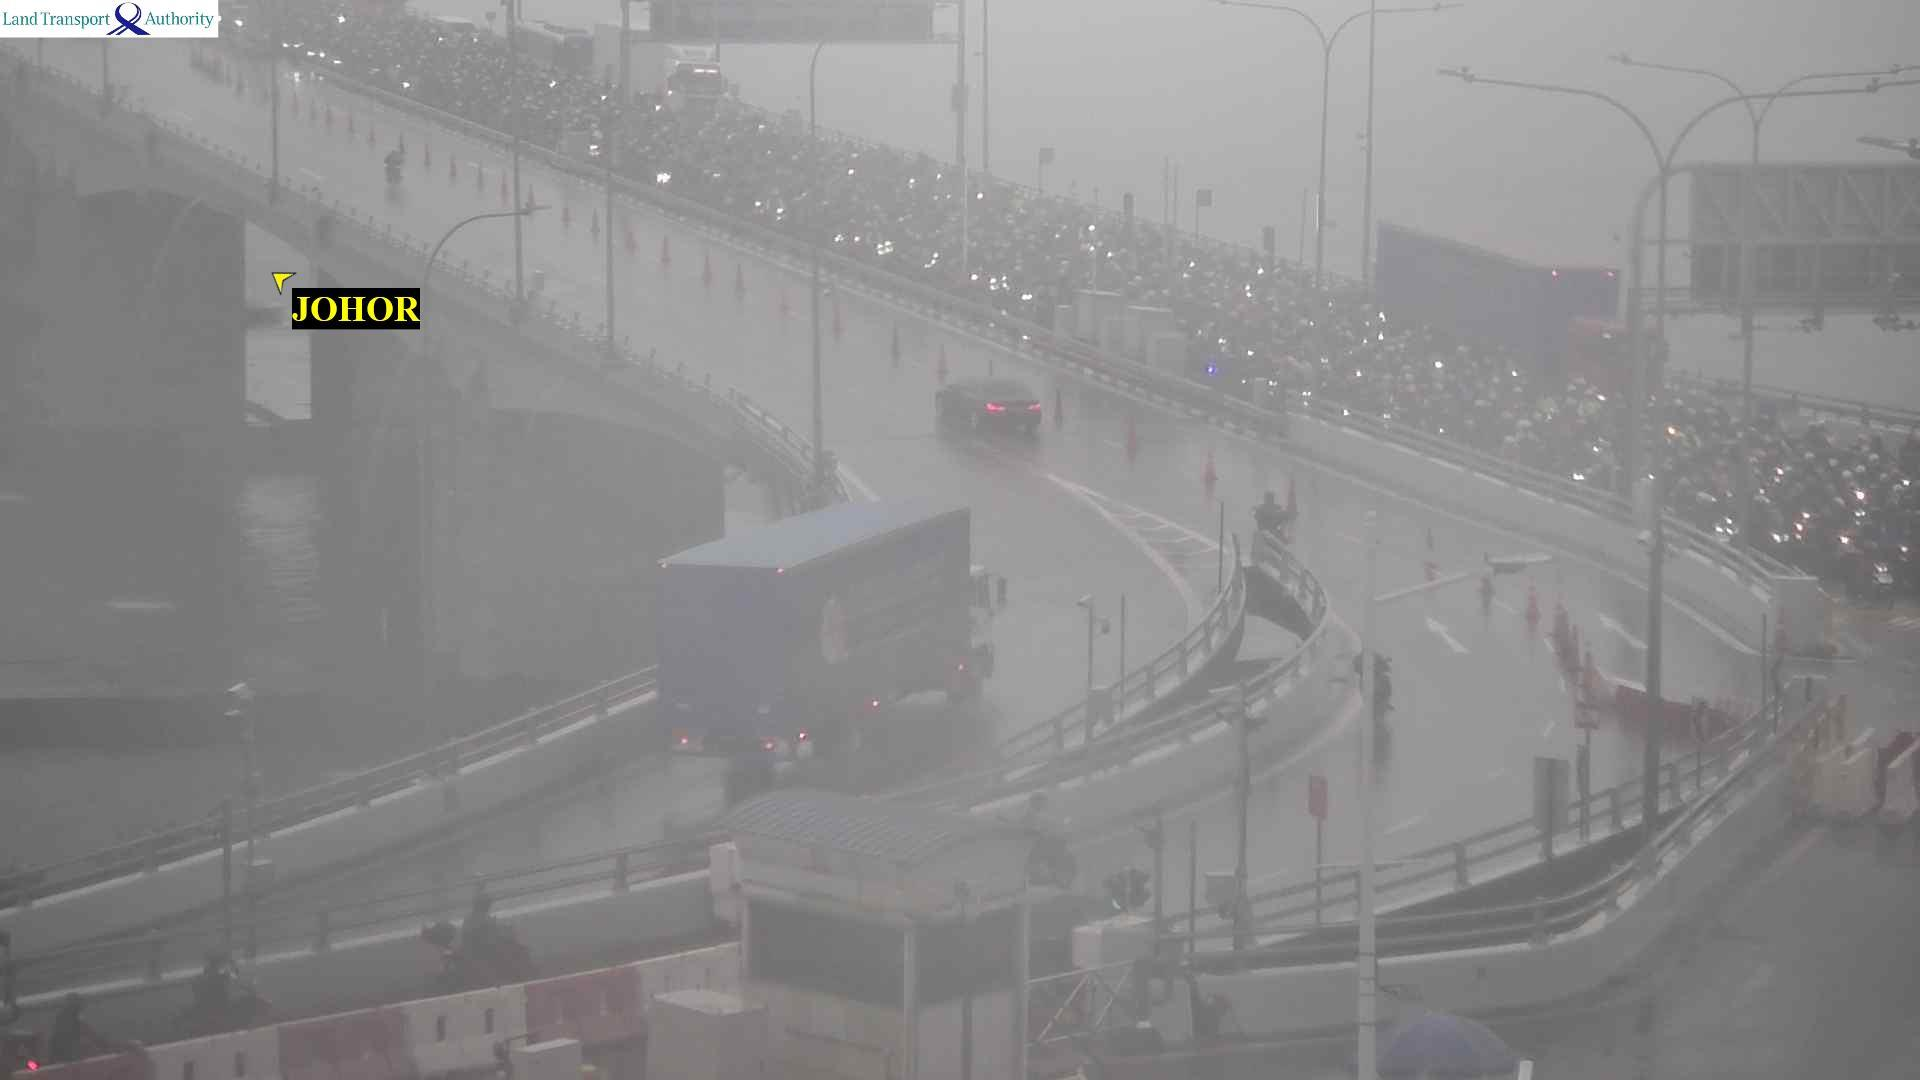vehicle-secondlink-johor: (664, 503, 994, 765), (933, 376, 1034, 424), (1256, 491, 1278, 544), (393, 153, 406, 184)
vehicle-secondlink-singapore: (1383, 222, 1627, 392), (595, 24, 716, 105), (517, 14, 591, 73)
